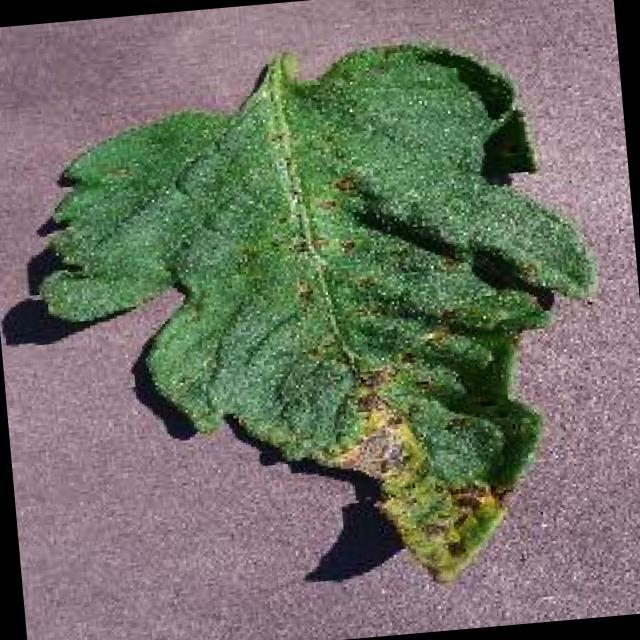Tomato Septoria spot leaf: (19, 24, 618, 632)
